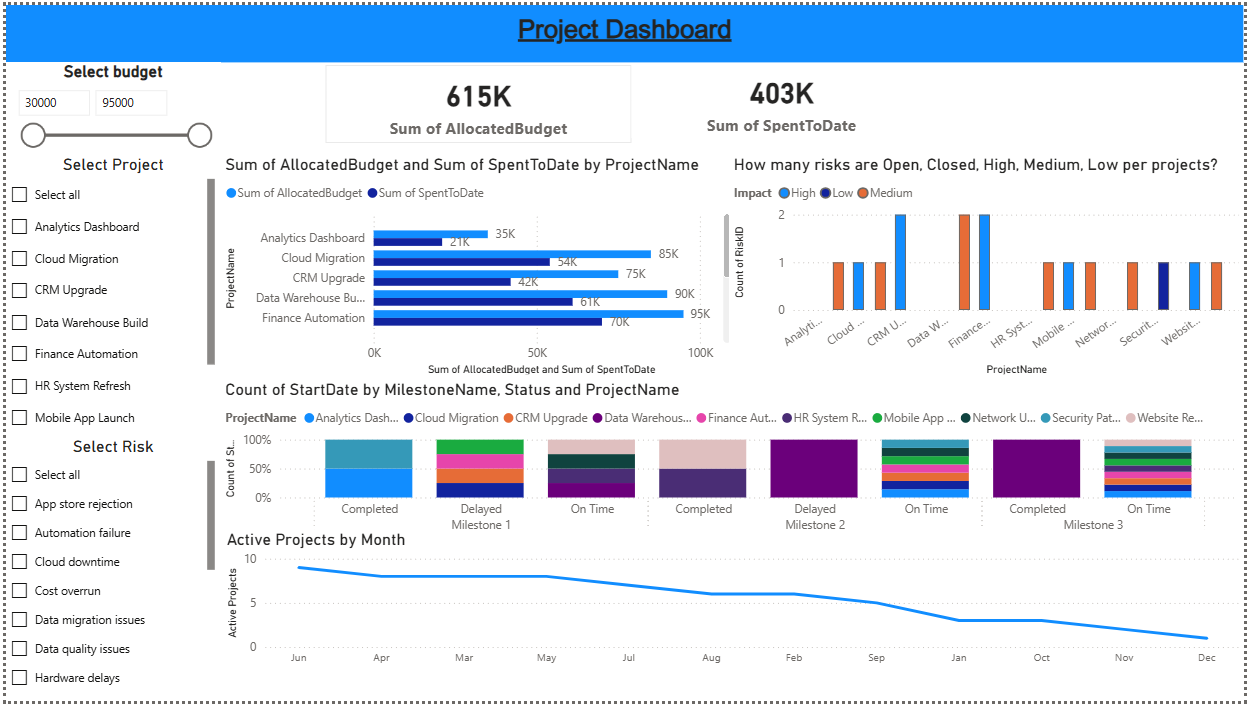

This screenshot's page, from the dashboard's own definition file:
{"tool":"powerbi","page":{"name":"Page 1","canvas":[1280,720],"ordinal":0},"visuals":[{"type":"clusteredBarChart","fields":{"Y":["Sum(Budgets.AllocatedBudget)","Sum(Budgets.SpentToDate)"],"Category":["Projects.ProjectName"]},"box":[222.3,155.1,532.5,231.9],"z":0},{"type":"card","fields":{"Values":["Sum(Budgets.AllocatedBudget)"]},"box":[330.9,61.6,315.5,80.8],"z":1000},{"type":"clusteredColumnChart","title":"How many risks are Open, Closed, High, Medium, Low per projects?","fields":{"Category":["Projects.ProjectName","Risks.Status"],"Series":["Risks.Impact"],"Y":["CountNonNull(Risks.RiskID)"]},"box":[747.9,155.1,532.5,231.9],"z":2000},{"type":"textbox","box":[0,0,1279.4,59.6],"z":3000},{"type":"card","fields":{"Values":["Sum(Budgets.SpentToDate)"]},"box":[646.4,61.6,309.7,75],"z":4000},{"type":"listSlicer","title":"Select Project","fields":{"Values":["Projects.ProjectName"]},"box":[0,155.4,221.8,293.8],"z":5000},{"type":"listSlicer","title":"Select Risk","fields":{"Values":["Risks.RiskDescription"]},"box":[0,447.3,221.8,271],"z":6000},{"type":"slicer","title":"Select budget","fields":{"Values":["Budgets.AllocatedBudget"]},"box":[0,69.8,210.9,85.3],"z":7000},{"type":"hundredPercentStackedColumnChart","fields":{"Category":["Milestones.MilestoneName","Milestones.Status"],"Series":["Projects.ProjectName"],"Y":["CountNonNull(Projects.StartDate)"]},"box":[221.8,387.7,1057.7,179.9],"z":8000},{"type":"lineChart","fields":{"Y":["Projects.Active Projects"],"Category":["DateTable.Month"]},"box":[223.1,542.3,1056.9,148.7],"z":9000}]}

Visuals, with their boxes in screenshot pixels (x1, y1, x2, y2), scaled from the page's 1280x720 canvas onto the 1251x710 screenshot:
clusteredBarChart - Sum(Budgets.AllocatedBudget) x Sum(Budgets.SpentToDate): bbox=(217, 153, 738, 382)
card - Sum(Budgets.AllocatedBudget): bbox=(323, 61, 632, 140)
"How many risks are Open, Closed, High, Medium, Low per projects?" clusteredColumnChart: bbox=(731, 153, 1250, 382)
textbox: bbox=(0, 0, 1250, 59)
card - Sum(Budgets.SpentToDate): bbox=(632, 61, 934, 135)
"Select Project" listSlicer: bbox=(0, 153, 217, 443)
"Select Risk" listSlicer: bbox=(0, 441, 217, 708)
"Select budget" slicer: bbox=(0, 69, 206, 153)
hundredPercentStackedColumnChart - Milestones.MilestoneName x Milestones.Status: bbox=(217, 382, 1250, 560)
lineChart - Projects.Active Projects x DateTable.Month: bbox=(218, 535, 1250, 681)
